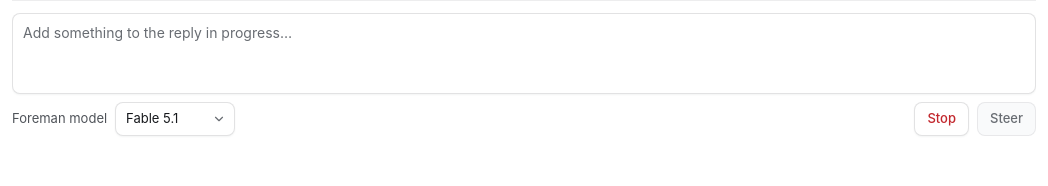
Test: Composer › keeps the draft when the reply finished before the steer got there
This screenshot has width=1048, height=186.
In the text box labelled "Add something to the reply in progress…": (524, 54) [12,13,1036,94], type "Late thought"
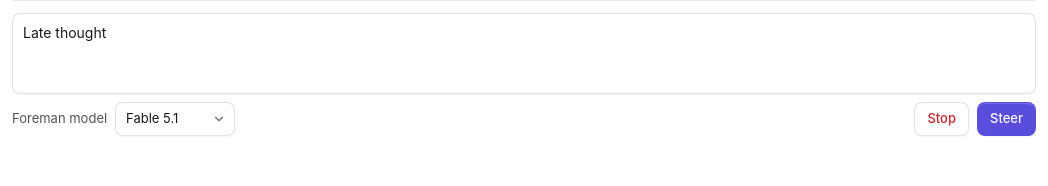
Click the button "Steer": click(1006, 119) [977,102,1036,136]
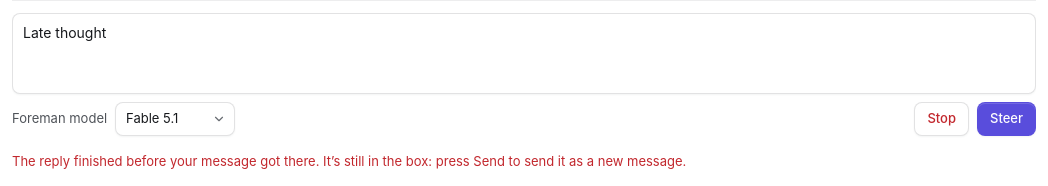
Result: the message shows "press Send" at [12,153,686,169]
